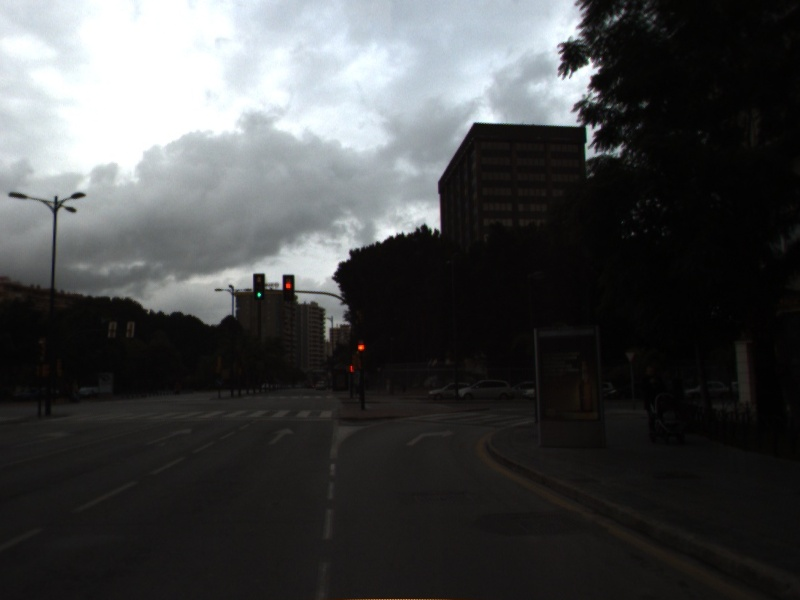RIGHT: (403, 426, 457, 449)
STRAIGHT: (142, 425, 195, 448), (264, 425, 296, 447)
